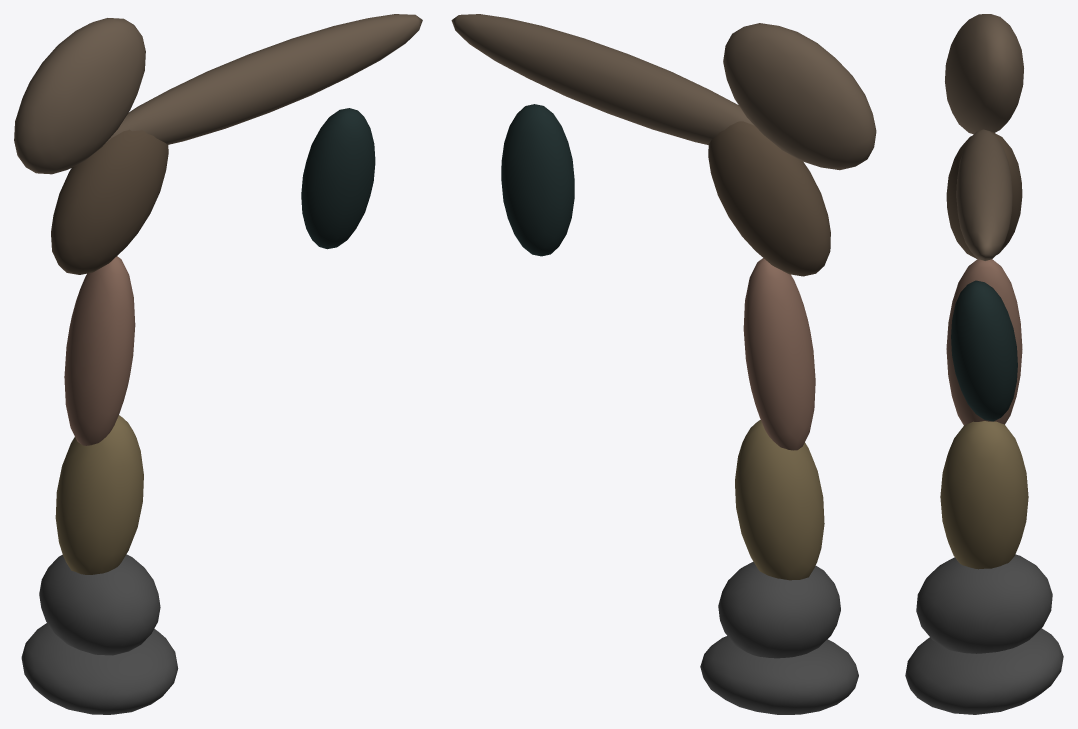
Rendered from Lantern_064B_ellip.glb.
3 views of the same model, side by side, from view 1: azimuth 30°, elevation 25°; view 2: azimuth 150°, elevation 25°; view 3: azimuth 270°, elevation 25° (orthographic).
Bounding box in the file's own units: 1.31 × 2.05 × 0.4311.
